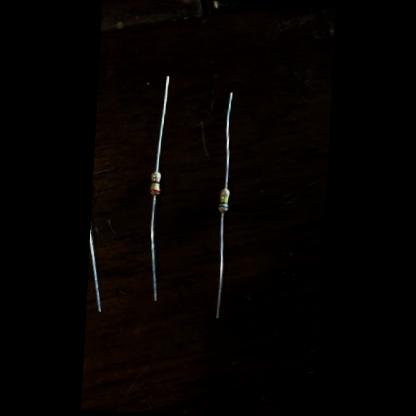resistor: (218, 188, 229, 212), (150, 172, 160, 194)
wire: (86, 224, 106, 312), (147, 195, 163, 300), (154, 76, 168, 171), (214, 212, 226, 318), (223, 93, 232, 188)
